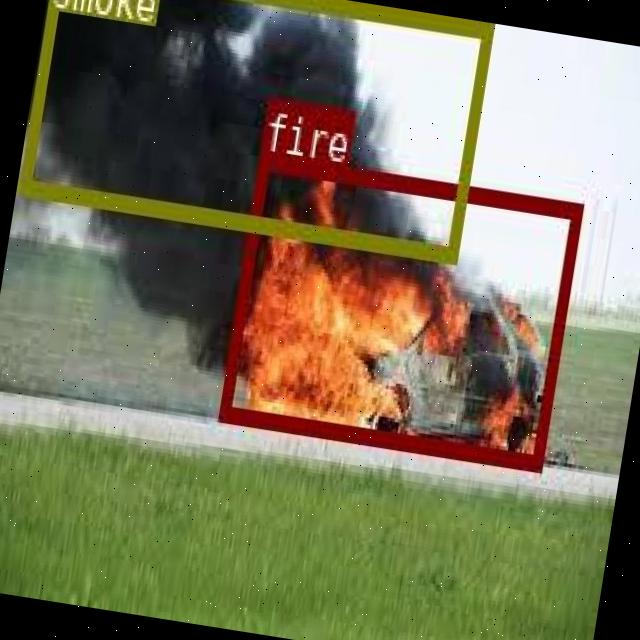fire: (217, 152, 580, 469)
smoke: (16, 0, 490, 261)
